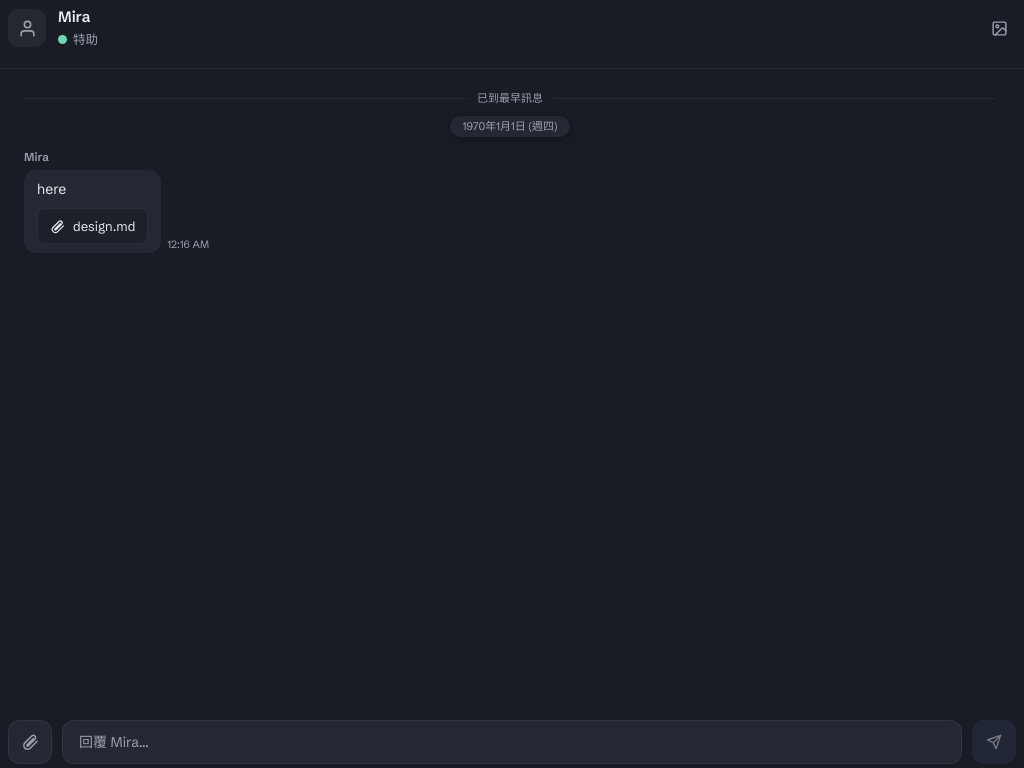
Scenario: chat .md preview action (T-a1c4 / T-7bc2) › opens the preview overlay and renders the markdown on click
The image size is (1024, 768).
Step 1. Click the button with class "chat__msg-file" → (93, 226), box left=37, top=208, right=148, bottom=244
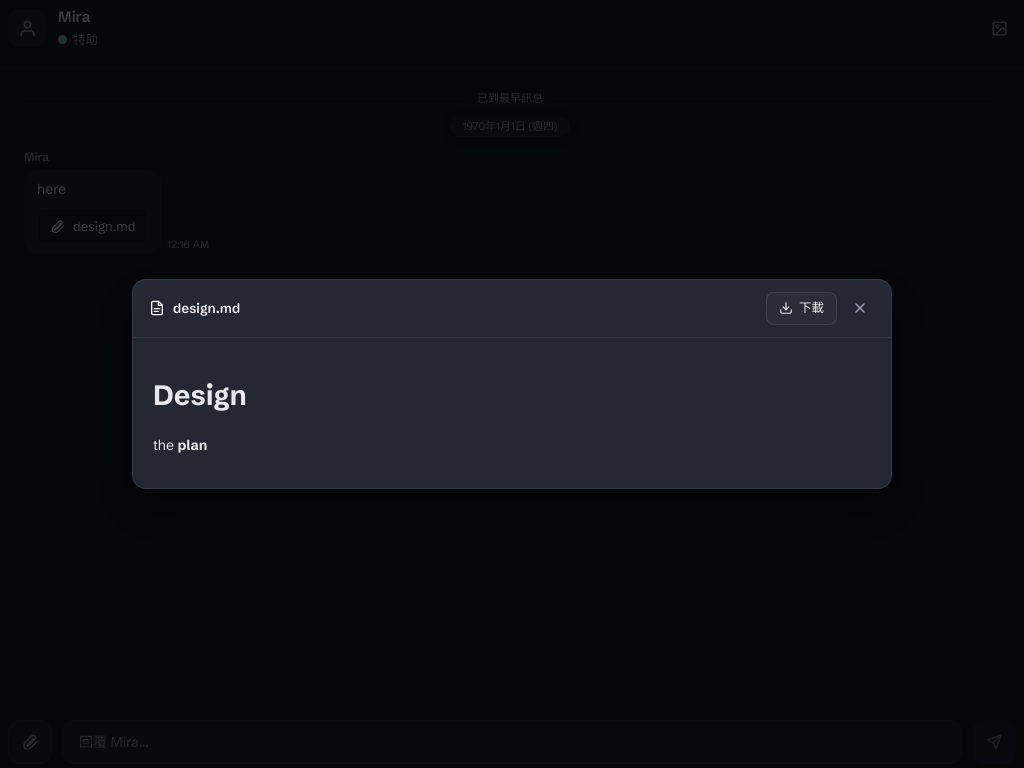
Now the heading "Design" is shown, box left=153, top=378, right=247, bottom=412
